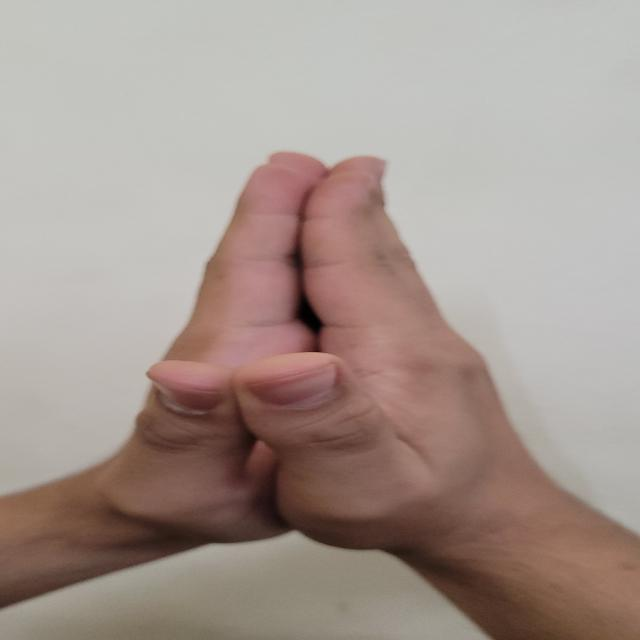Thank You: (108, 135, 572, 576)
